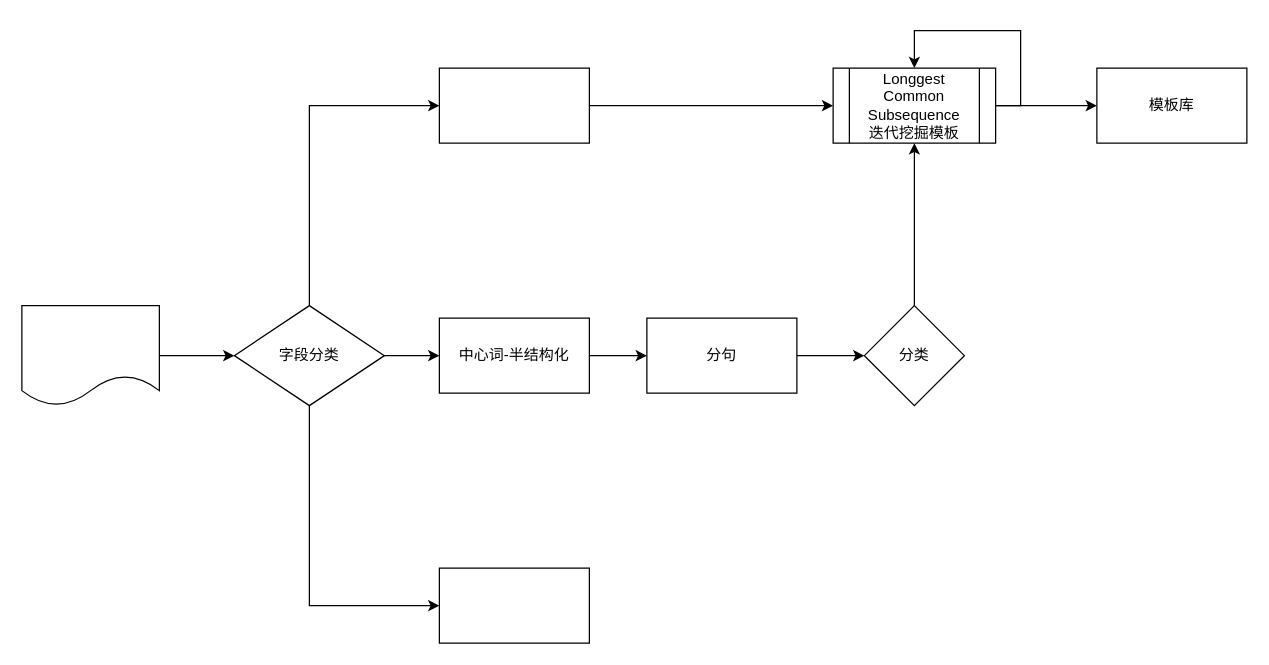
Image size: 1269x665. Some labels were removed from this diagram. The shapes that lost their labels are listed below. From the top down, each one's centre as x and y in pixels, then its label:
At (x=513, y=105): "kv对-结构化".
At (x=90, y=355): "record文本".
At (x=513, y=605): "描述性-非结构化".
